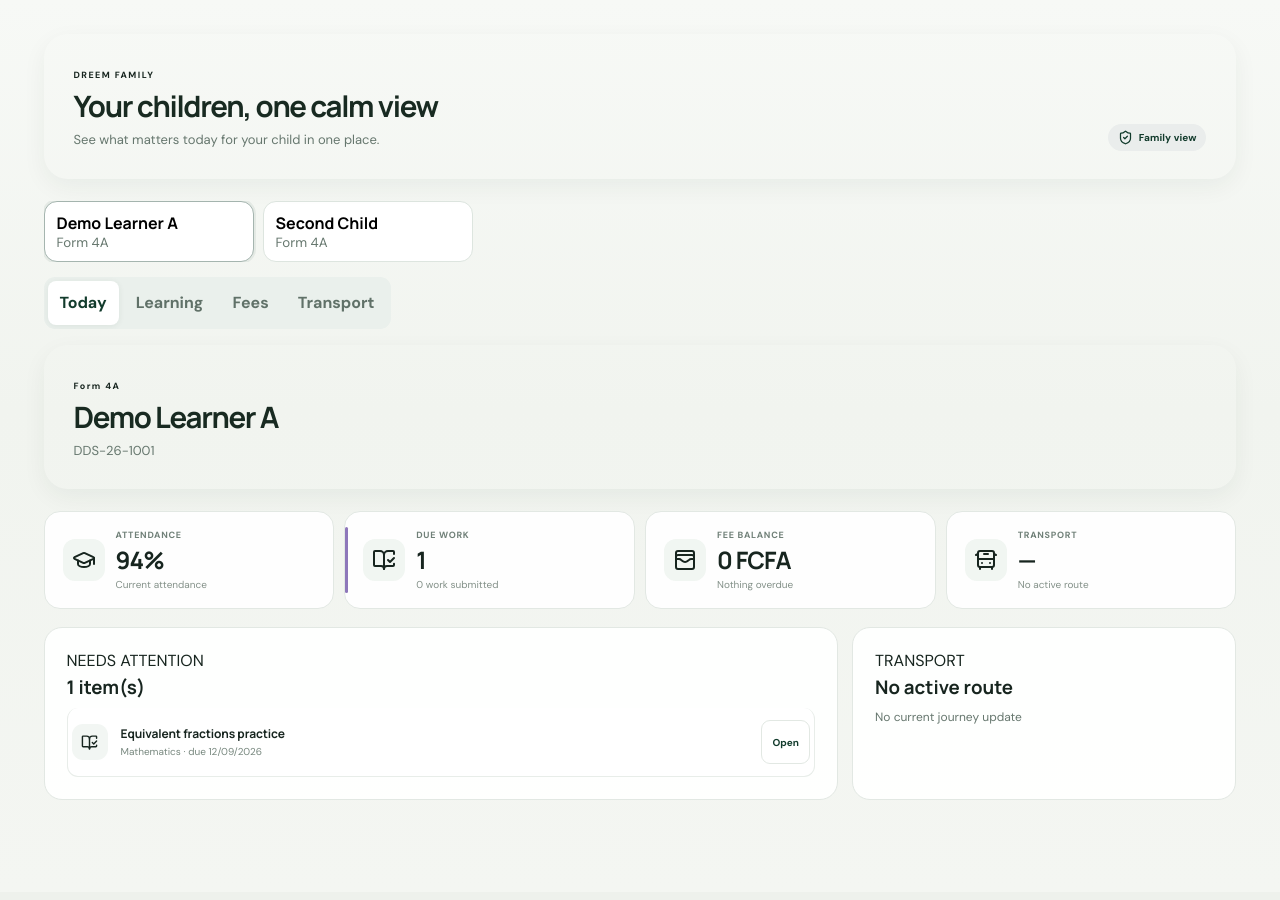
Test: Family app › hides the previous child's private records when switching and the next request fails
Step 1. Click the button "Transport" → (336, 302), box [286,280,386,324]
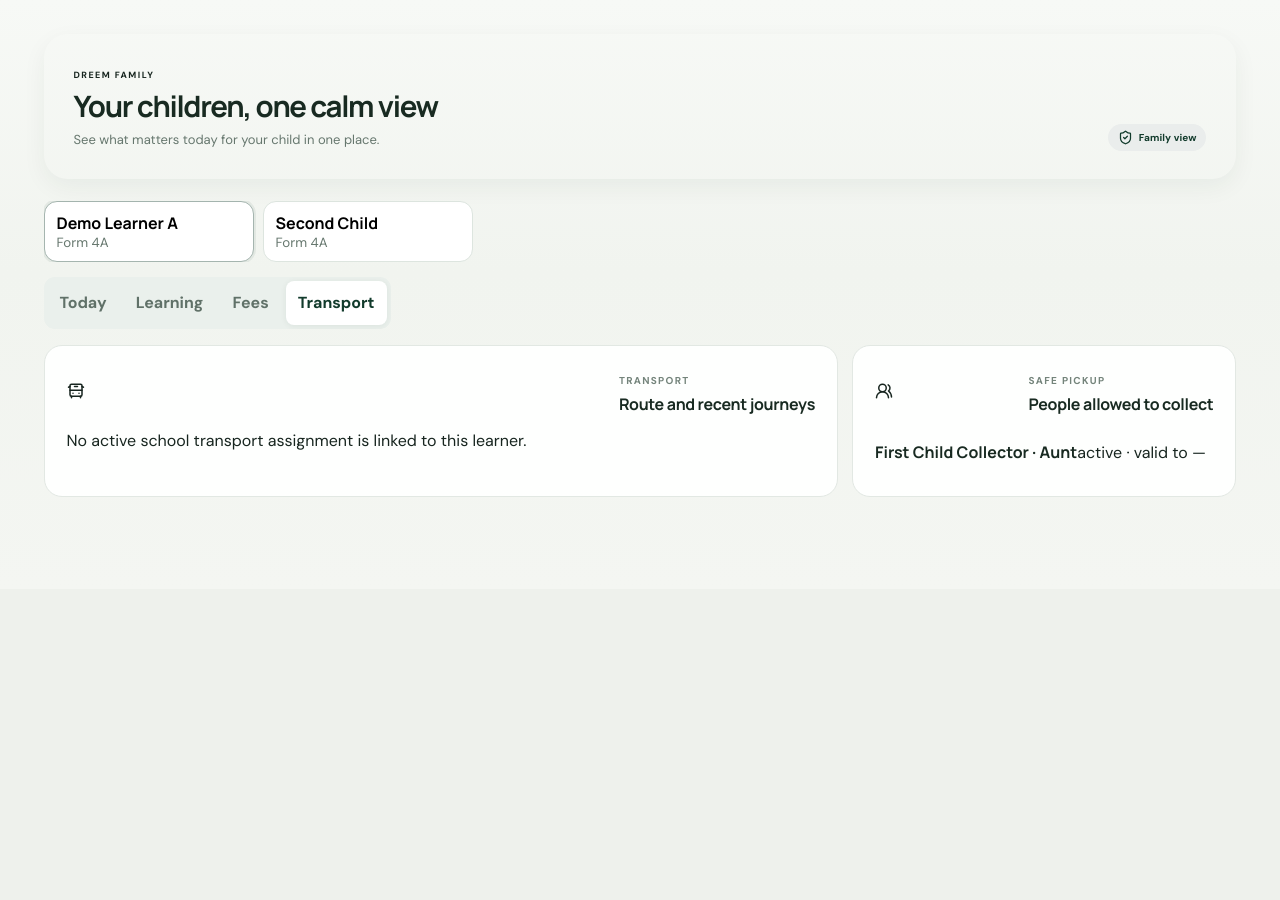
Expected: the text "First Child Collector · Aunt" is shown, [875,440,1077,462]
Step 2. Click the button "Second Child Form 4A" → (368, 231), box [262,200,472,262]
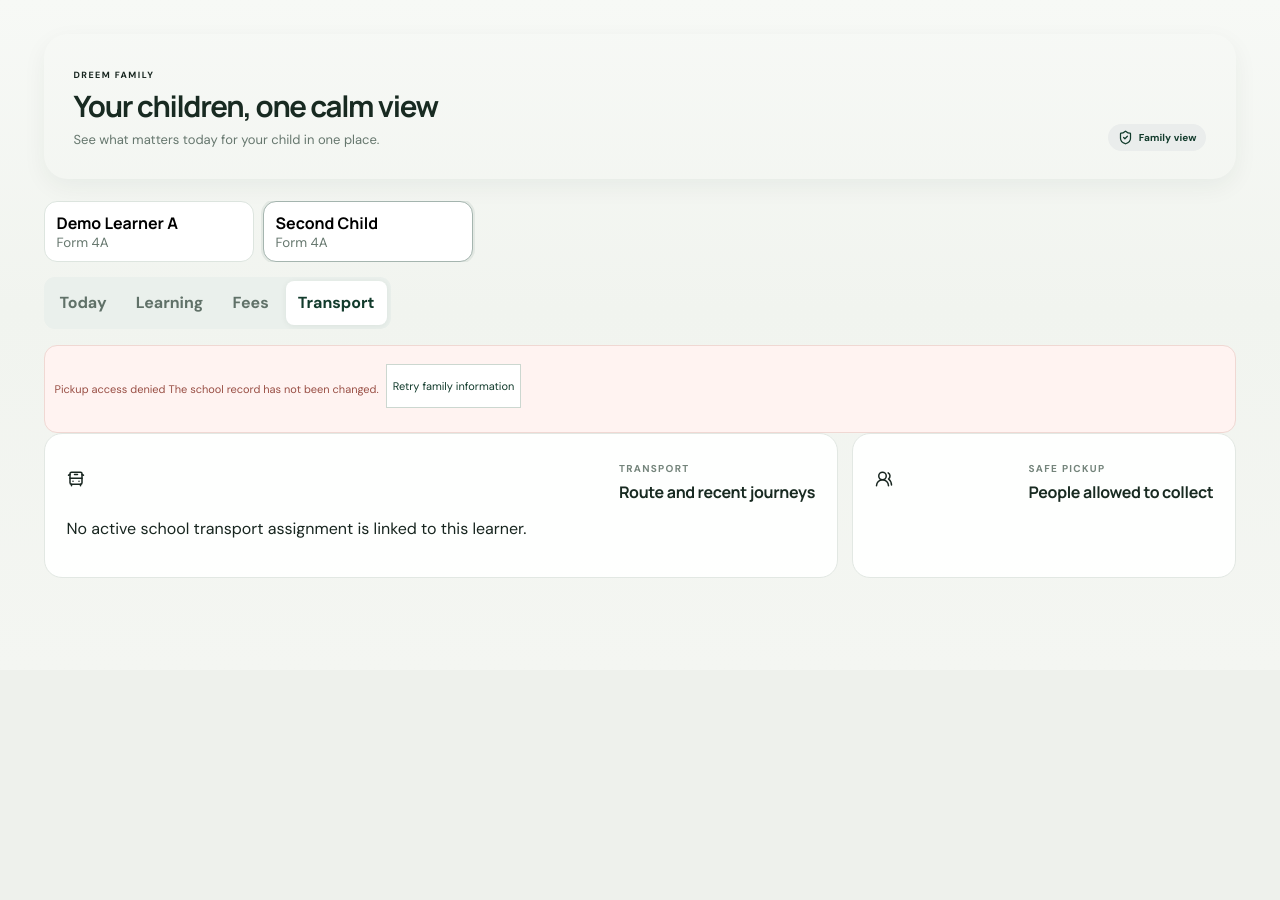
Expected: the text "Pickup access denied The school record has not been changed." is shown, [54,382,379,396]
Expected: the text "First Child Collector" is gone
